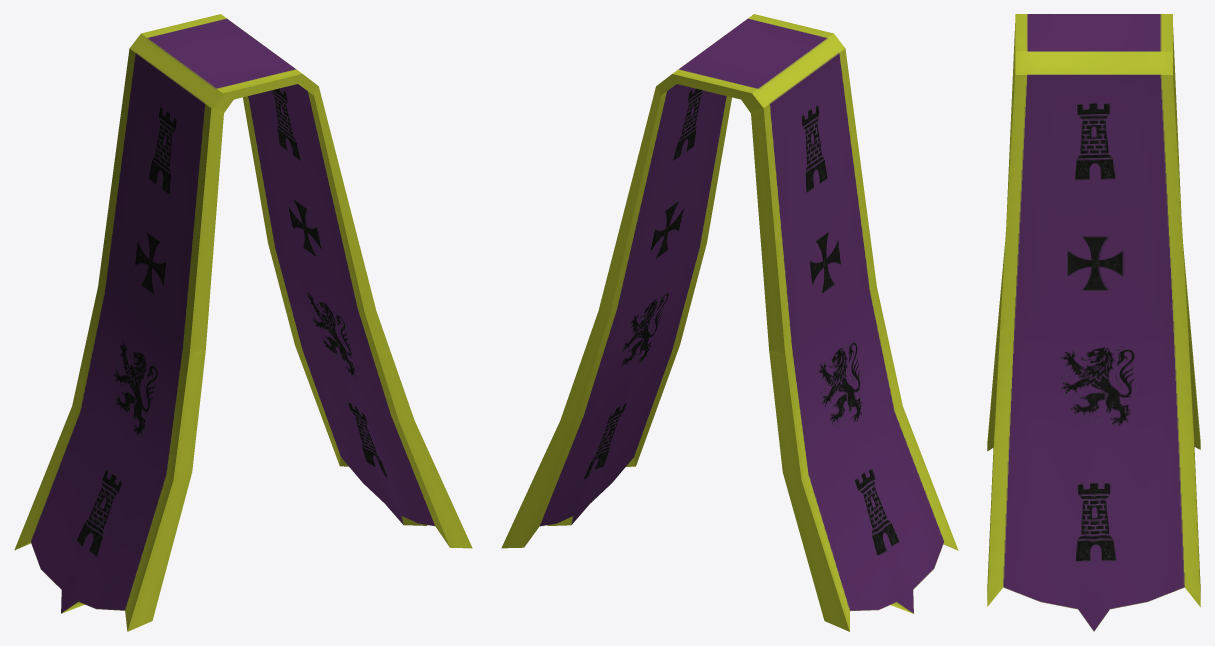
The model's file is nanner.fbx.
3 renders of one model, left to right at view 1: azimuth 30°, elevation 25°; view 2: azimuth 150°, elevation 25°; view 3: azimuth 270°, elevation 25°, orthographic. The views are drawn at different scales.
Parts seen in each view (by area): view 1: banner_1_Pablo_a22504889; view 2: banner_1_Pablo_a22504889; view 3: banner_1_Pablo_a22504889.
Part boxes in pixels (bbox=[...]): banner_1_Pablo_a22504889: bbox=[14, 14, 472, 631]; banner_1_Pablo_a22504889: bbox=[501, 14, 958, 631]; banner_1_Pablo_a22504889: bbox=[987, 14, 1200, 631].
Size of the model in its own units: 1.58 by 2.16 by 0.8316.
